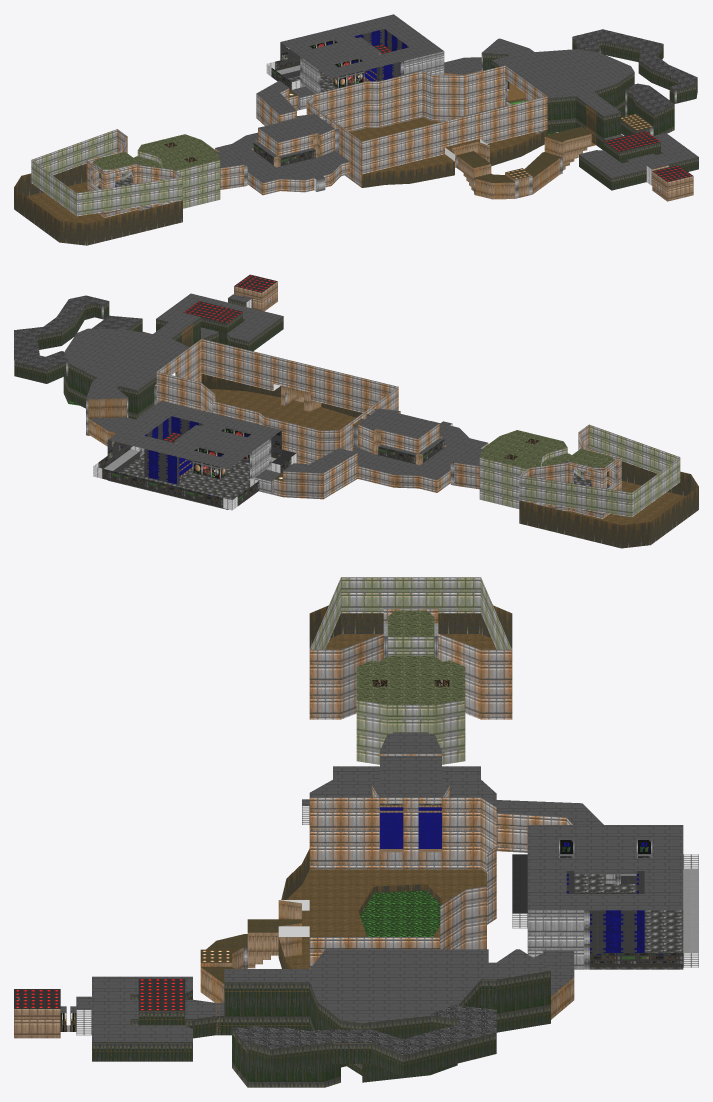
File: room1.glb
3 views of the same model, one above another, from view 1: azimuth 30°, elevation 25°; view 2: azimuth 150°, elevation 25°; view 3: azimuth 270°, elevation 25° (orthographic). The views are drawn at different scales.
Visible parts, largest first — view 1: E1M1; view 2: E1M1; view 3: E1M1.
Boxes of the visible parts, bbox=[...] form: E1M1: bbox=[14, 14, 698, 245]; E1M1: bbox=[14, 274, 698, 548]; E1M1: bbox=[14, 577, 698, 1087].
Bounding box in the file's own units: 4576 × 480 × 2816.
55 materials, 54 textured.
